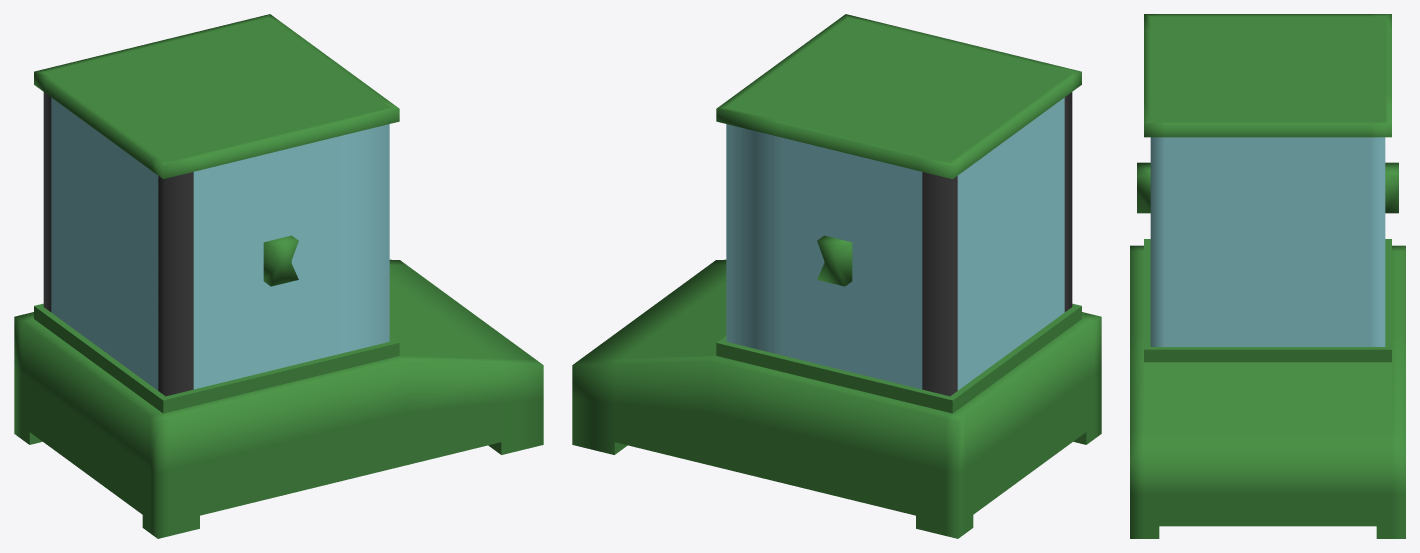
The model's file is balancer.FBX.
3 renders of one model, left to right at view 1: azimuth 30°, elevation 25°; view 2: azimuth 150°, elevation 25°; view 3: azimuth 270°, elevation 25°, orthographic. The views are drawn at different scales.
Parts seen in each view (by area): view 1: Box001; view 2: Box001; view 3: Box001.
Part boxes in pixels (<box>): Box001: <box>14,14,543,538</box>; Box001: <box>572,14,1101,538</box>; Box001: <box>1130,14,1405,538</box>.
Size of the model in its own units: 3101 by 2800 by 2000.
